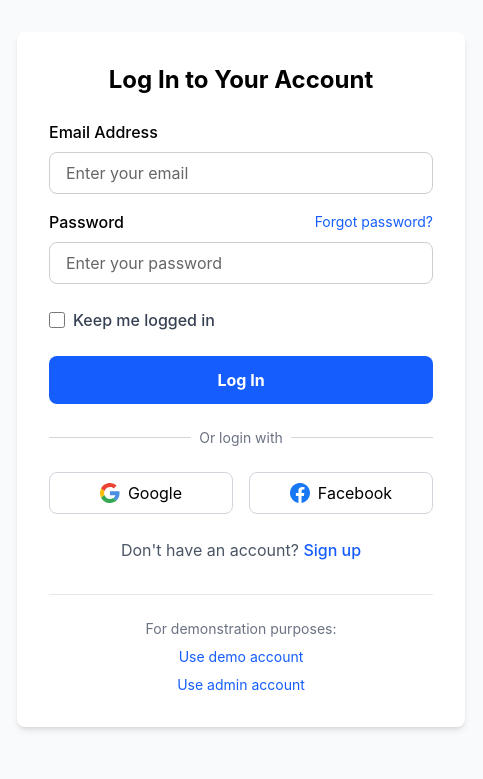
Login Page › handles failed login attempt
In the field labelled "Email Address": x=241, y=172 top-left (49, 152), bottom-right (433, 194), type "test@example.com"
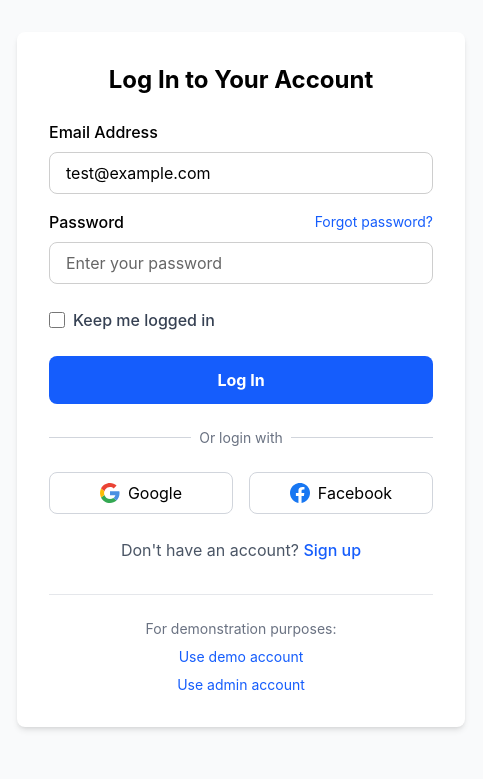
In the password field labelled "Password": x=241, y=262 top-left (49, 242), bottom-right (433, 284), type "wrongpassword"
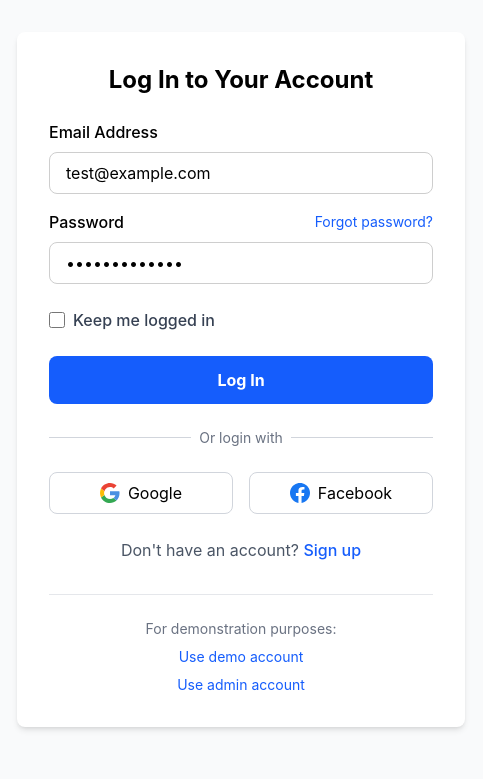
Note: Submit form
Submit the form "Log In", box top-left (49, 120), bottom-right (433, 404)
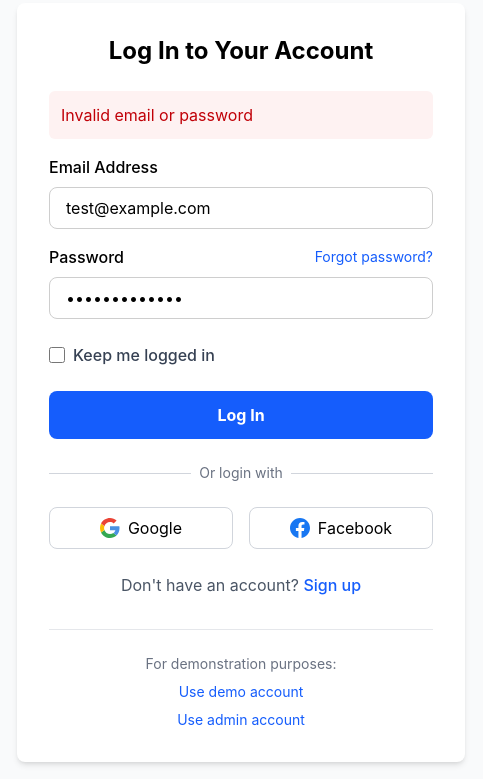
Expected: the text "Invalid email or password" is shown, top-left (49, 91), bottom-right (433, 139)
